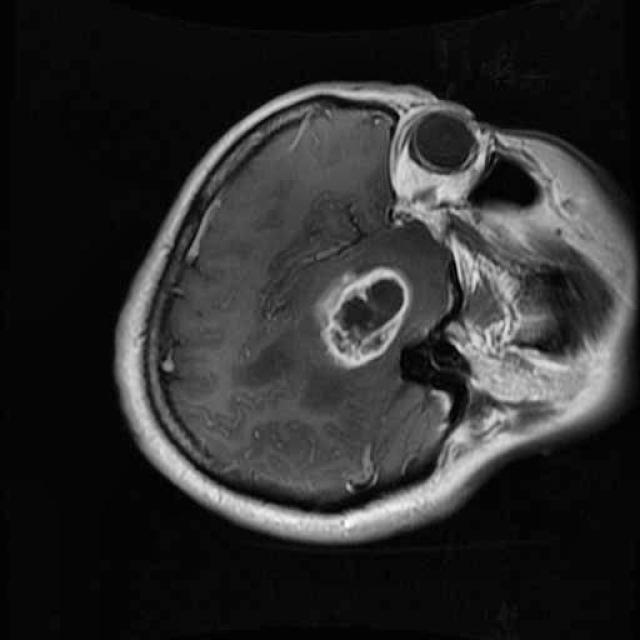Non-Tumor: (306, 248, 419, 379)
